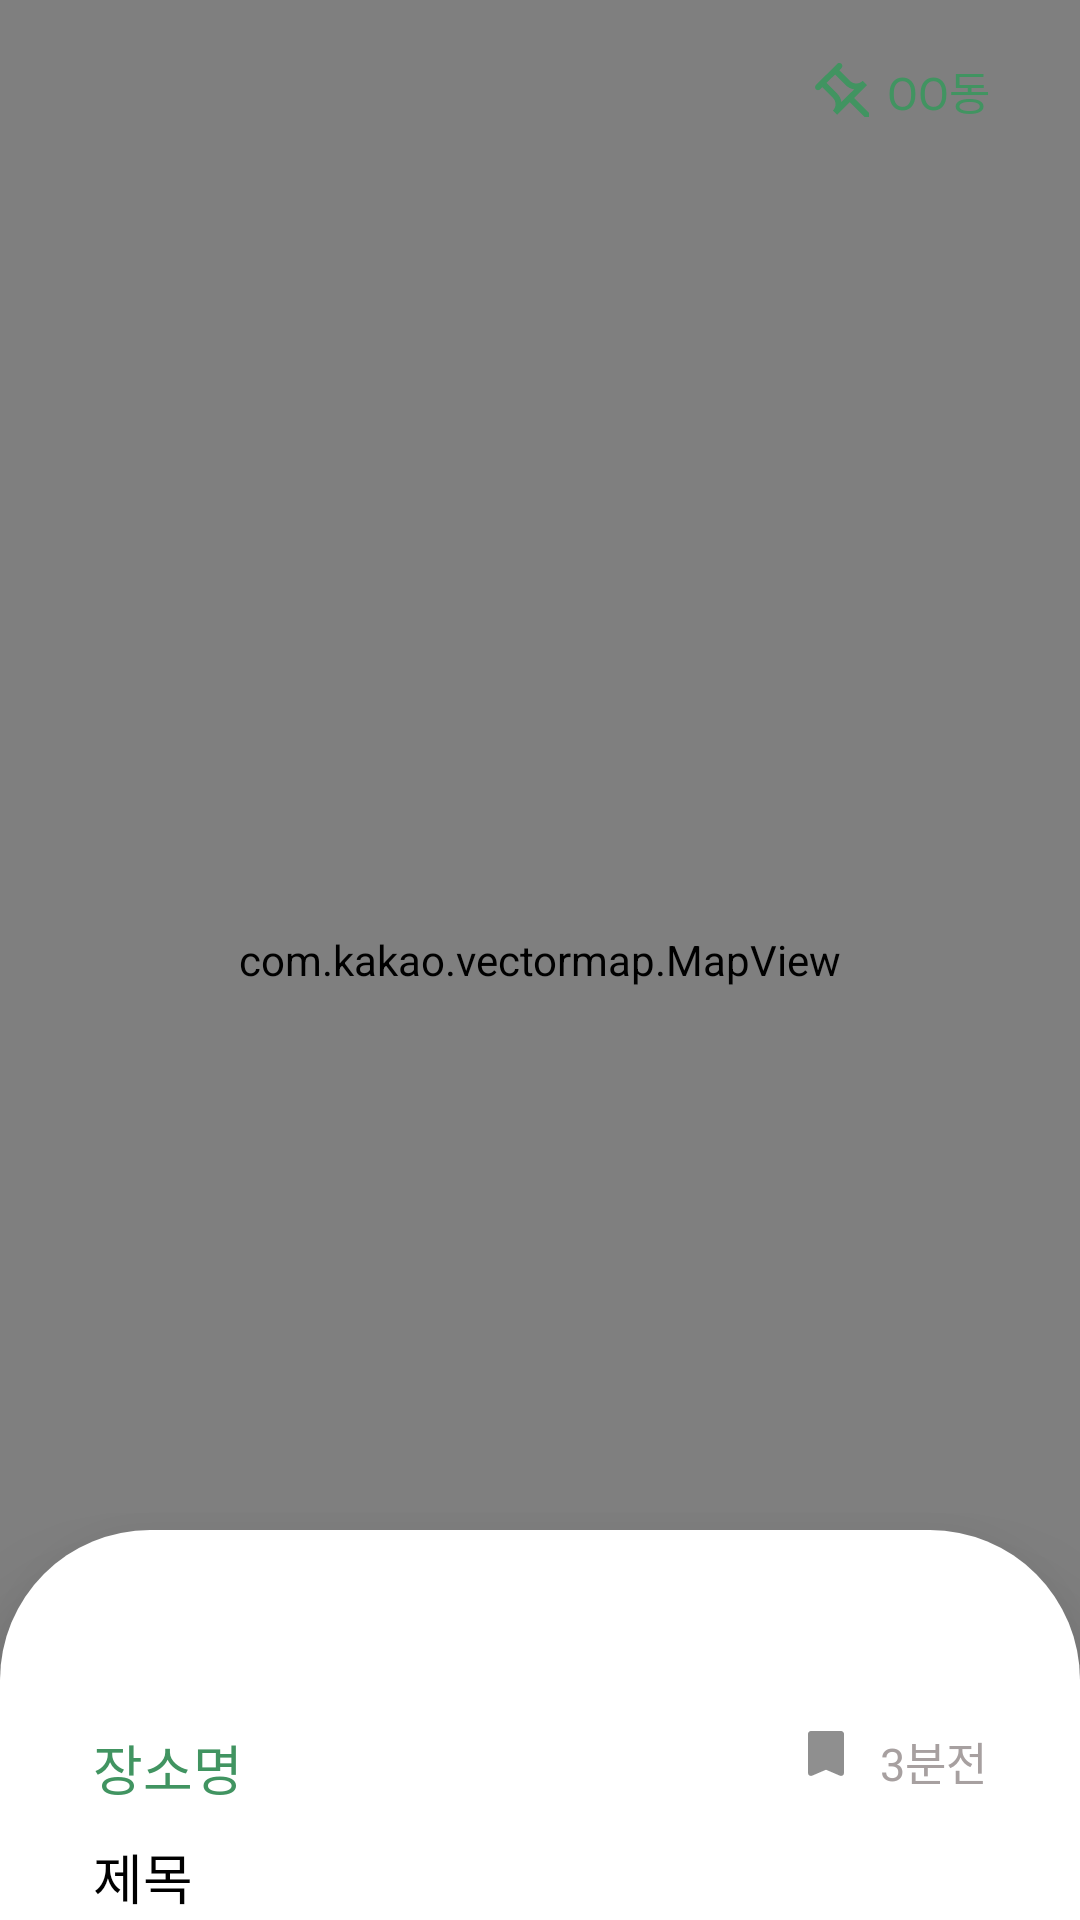

Point at icon controls on the screen. Image size 1080 x 1920, points as point (x, y).
bookmini off: point (826, 1753)
